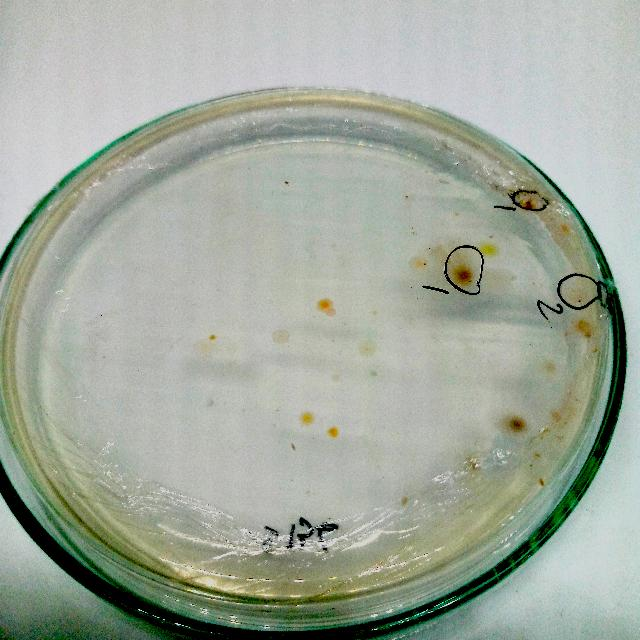colony: (312, 293, 341, 323), (562, 278, 592, 304), (450, 264, 480, 288), (570, 316, 598, 340), (504, 412, 530, 436), (358, 338, 382, 364), (481, 237, 505, 261), (540, 354, 564, 378), (405, 251, 433, 271), (295, 406, 319, 426), (516, 193, 540, 213), (464, 455, 486, 475), (270, 327, 292, 343), (396, 492, 414, 511), (326, 426, 339, 440), (206, 331, 220, 344), (279, 178, 291, 188)
